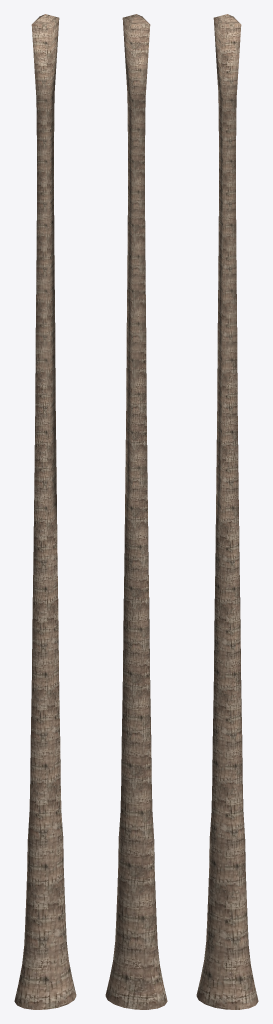
File: m_palm_p2_4_trunk_0.glb
The picture shows the model from 3 angles, left to right: view 1: azimuth 30°, elevation 25°; view 2: azimuth 150°, elevation 25°; view 3: azimuth 330°, elevation 25°; orthographic projection.
Parts seen in each view (by area): view 1: M_Palm_P2_4_Trunk_0; view 2: M_Palm_P2_4_Trunk_0; view 3: M_Palm_P2_4_Trunk_0.
Boxes of the visible parts, box(x1,y1,x2,y2) form: M_Palm_P2_4_Trunk_0: box(14, 14, 76, 1009); M_Palm_P2_4_Trunk_0: box(105, 14, 167, 1009); M_Palm_P2_4_Trunk_0: box(196, 14, 258, 1009).
Size of the model in its own units: 0.4433 by 7.34 by 0.3401.
1 material, 1 textured.
